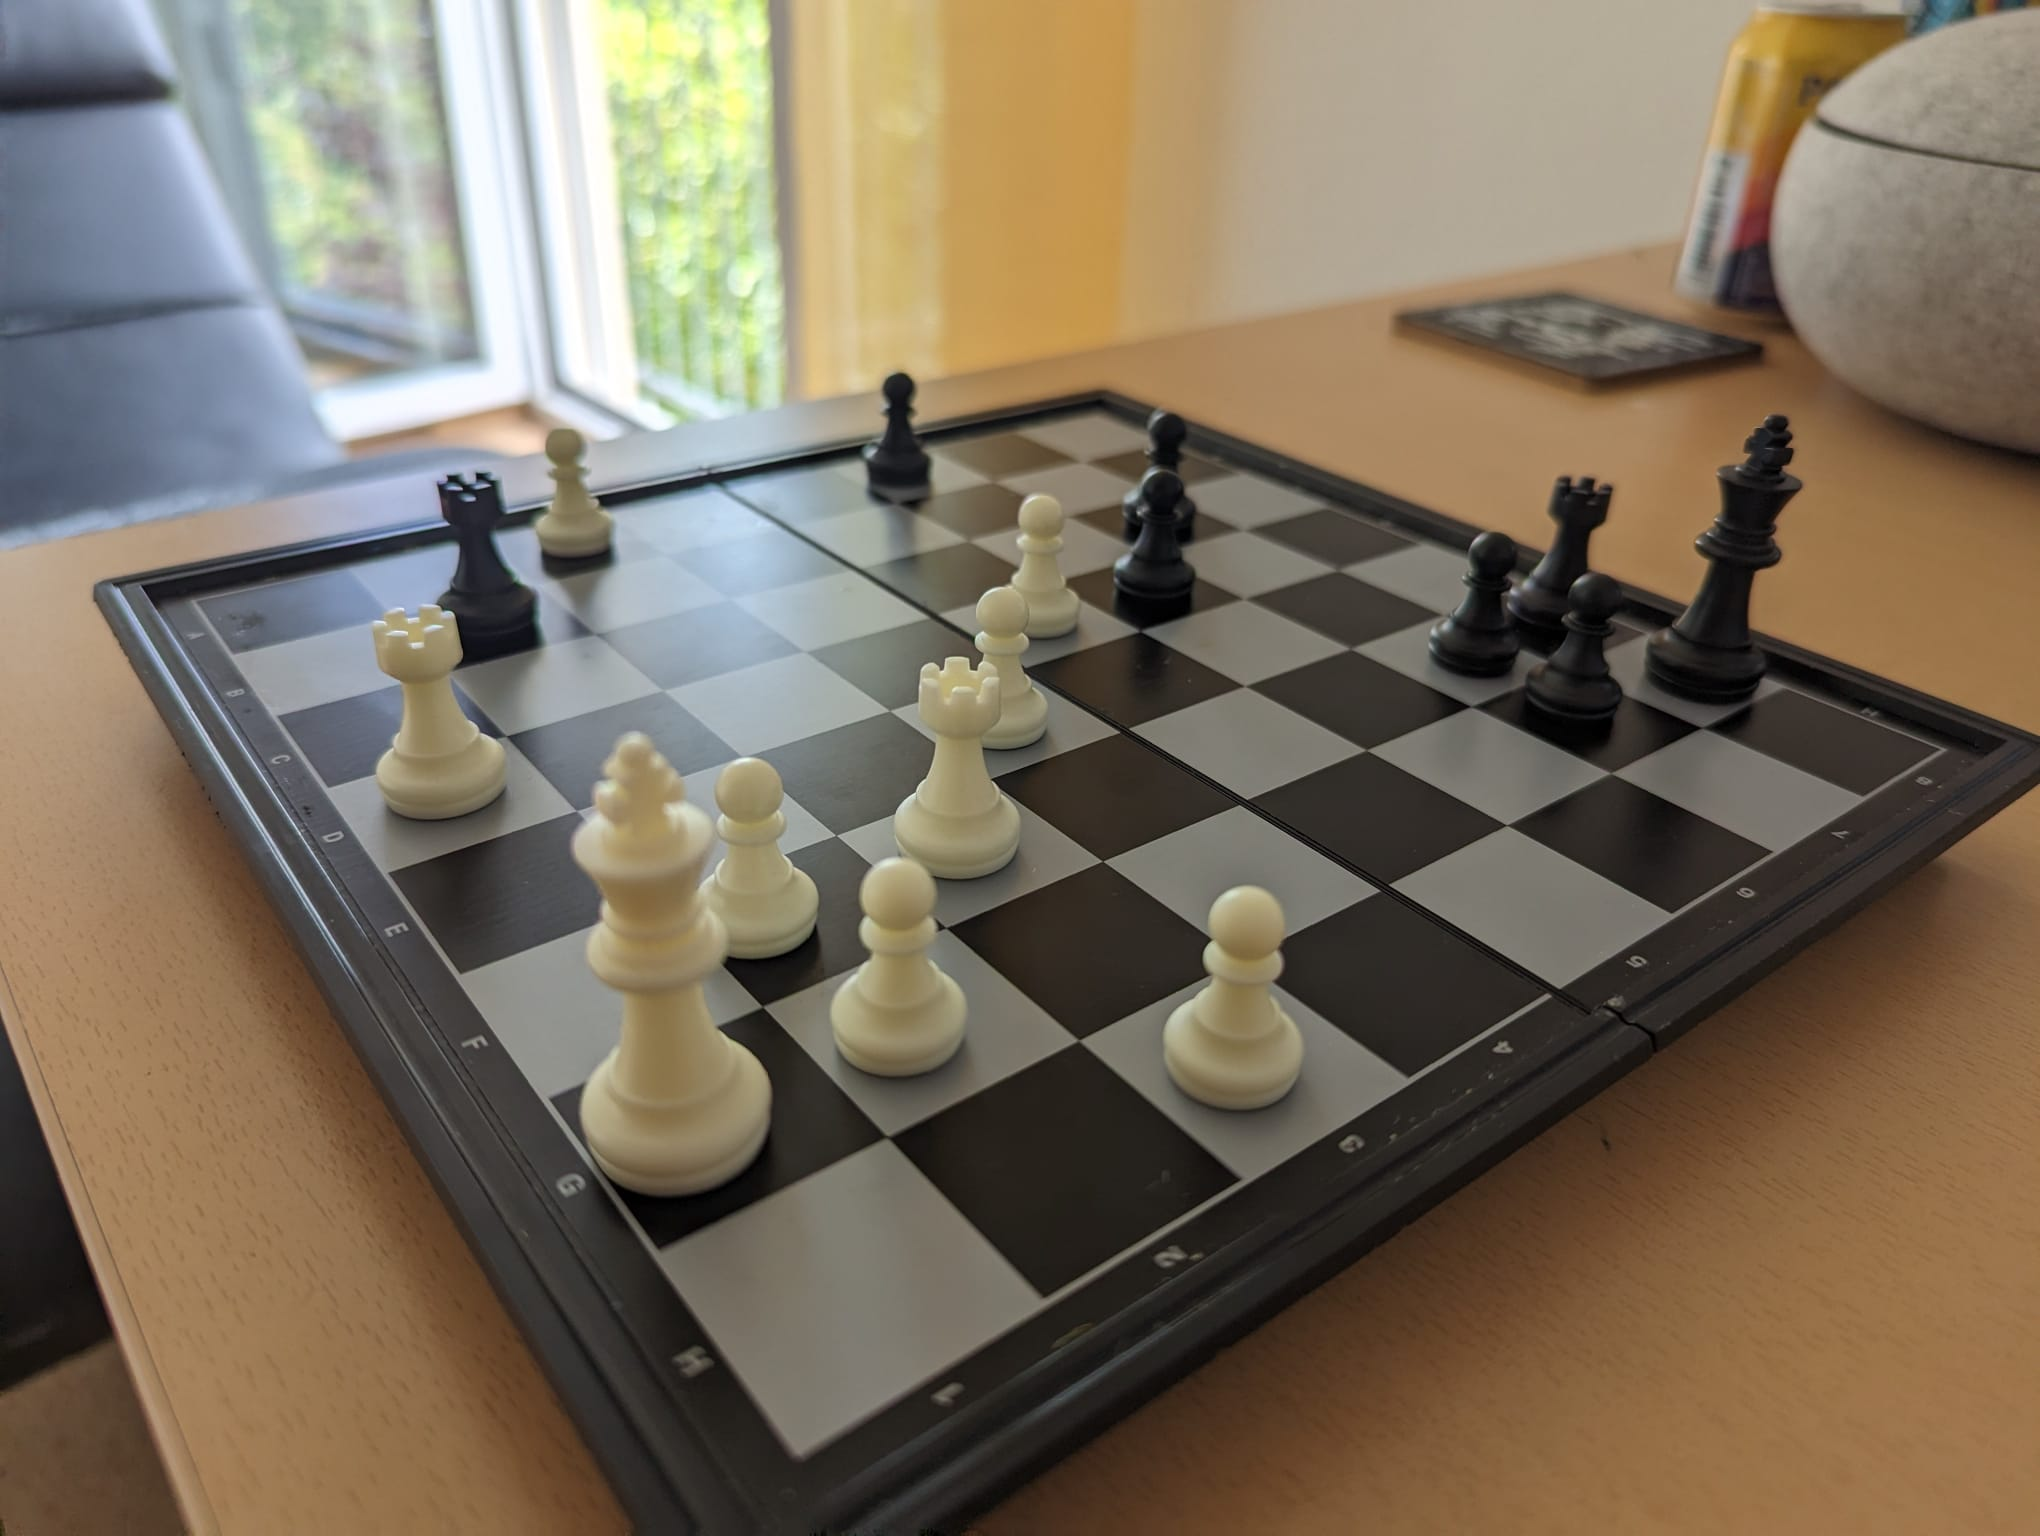BK: (1651, 411, 1801, 712)
BP: (1530, 565, 1624, 739), (1435, 534, 1522, 671), (1113, 476, 1193, 611), (868, 368, 934, 487), (1122, 415, 1193, 524)
BR: (434, 470, 532, 634), (1521, 471, 1611, 650)
WK: (574, 733, 774, 1202)
WP: (832, 862, 972, 1081), (1171, 884, 1301, 1107), (698, 750, 819, 950), (971, 587, 1050, 745), (1005, 495, 1082, 637), (534, 431, 613, 555)
WR: (368, 608, 508, 820), (906, 662, 1024, 876)
